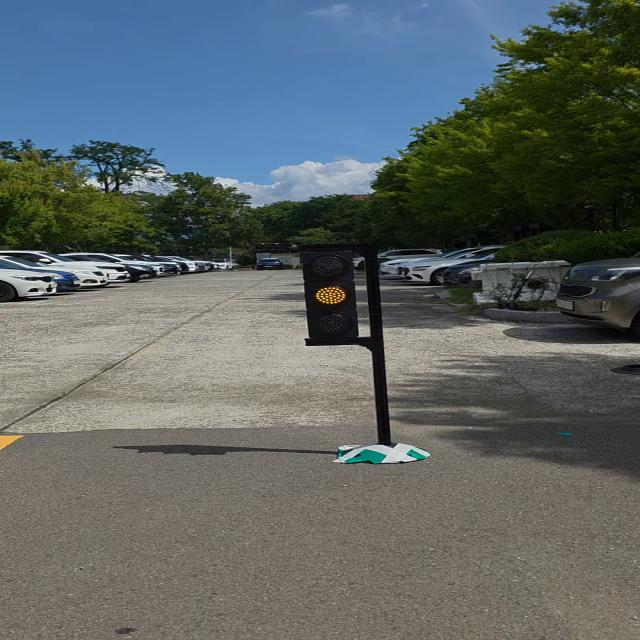yellow: (298, 246, 364, 345)
